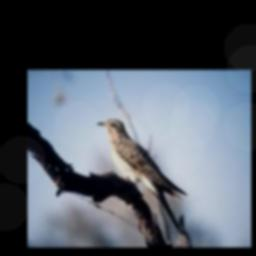Cuckoo: (97, 119, 187, 234)
